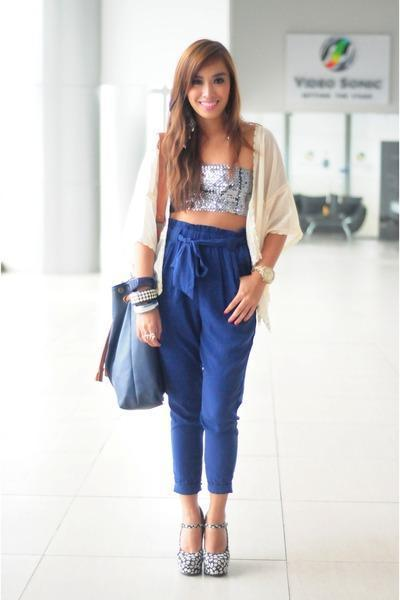bag: (105, 291, 158, 409)
pants: (144, 219, 255, 495)
shirt: (124, 132, 315, 251), (202, 164, 248, 213)
shoe: (181, 540, 229, 578)
